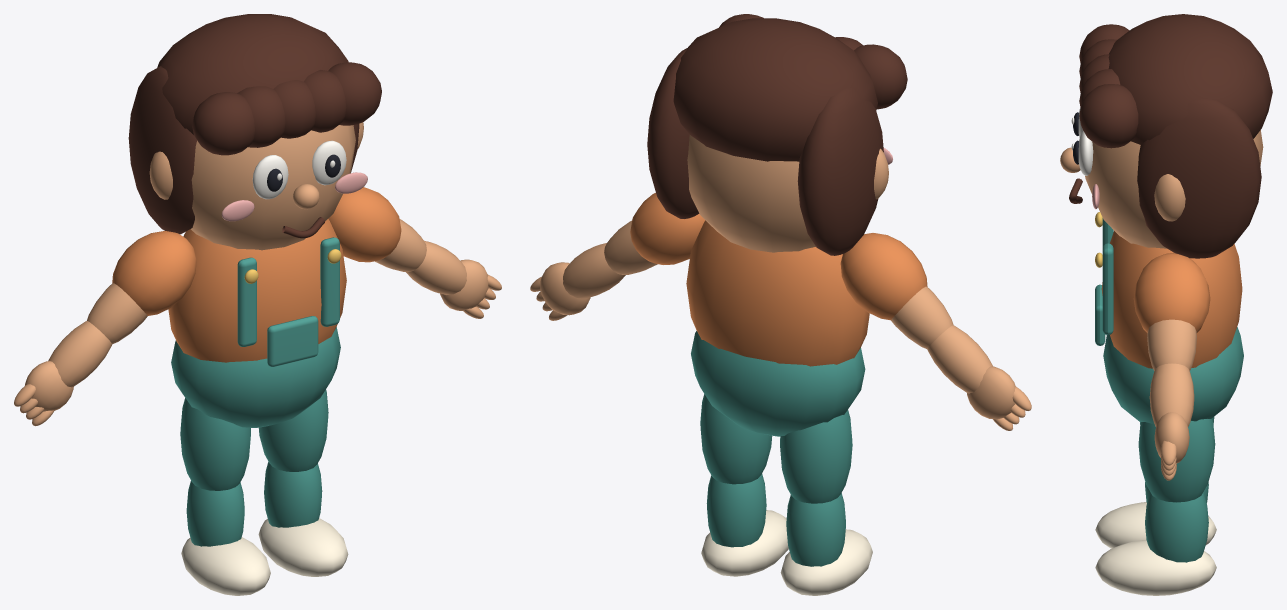
Rendered from ava-dance.glb.
The picture shows the model from 3 angles, left to right: view 1: azimuth 30°, elevation 25°; view 2: azimuth 150°, elevation 25°; view 3: azimuth 270°, elevation 25°; orthographic projection. The views are drawn at different scales.
Parts seen in each view (by area): view 1: soft shirt, hair cap, clay head, overalls, bob hair, shirt sleeve, trouser leg, shirt sleeve.001, little shoe.001, little shoe, trouser leg.001, fringe (+18 smaller); view 2: hair cap, soft shirt, overalls, bob hair, clay head, shirt sleeve, trouser leg, bob hair.001, trouser leg.001, lower leg, lower leg.001, shirt sleeve.001 (+9 smaller); view 3: bob hair.001, hair cap, soft shirt, overalls, shirt sleeve.001, clay head, little shoe.001, trouser leg.001, lower leg.001, fringe.004, forearm.001, upper arm.001 (+12 smaller).
Part boxes in pixels (<box>): soft shirt: <box>168,219,346,362</box>; hair cap: <box>157,14,348,134</box>; clay head: <box>191,125,355,250</box>; overalls: <box>171,327,340,427</box>; bob hair: <box>128,66,196,234</box>; shirt sleeve: <box>112,231,196,315</box>; trouser leg: <box>180,398,250,490</box>; shirt sleeve.001: <box>328,187,401,262</box>; little shoe.001: <box>258,518,348,576</box>; little shoe: <box>181,537,270,595</box>; trouser leg.001: <box>258,389,328,471</box>; fringe: <box>192,92,254,155</box>; hair cap: <box>673,18,877,161</box>; soft shirt: <box>686,220,869,366</box>; overalls: <box>691,331,865,436</box>; bob hair: <box>797,88,883,255</box>; clay head: <box>687,135,815,252</box>; shirt sleeve: <box>840,233,927,320</box>; trouser leg: <box>780,410,852,503</box>; bob hair.001: <box>647,48,699,218</box>; trouser leg.001: <box>700,394,772,484</box>; lower leg: <box>786,493,845,566</box>; lower leg.001: <box>706,474,766,547</box>; shirt sleeve.001: <box>630,193,705,264</box>; bob hair.001: <box>1137,98,1261,258</box>; hair cap: <box>1108,14,1272,144</box>; soft shirt: <box>1101,231,1242,368</box>; overalls: <box>1103,327,1243,423</box>; shirt sleeve.001: <box>1133,253,1210,332</box>; clay head: <box>1085,130,1263,248</box>; little shoe.001: <box>1095,540,1216,595</box>; trouser leg.001: <box>1138,418,1215,502</box>; lower leg.001: <box>1145,492,1208,562</box>; fringe.004: <box>1079,84,1138,148</box>; forearm.001: <box>1149,363,1194,426</box>; upper arm.001: <box>1147,319,1196,370</box>.
Bounding box in the file's own units: 1.76 × 1.87 × 0.665.
